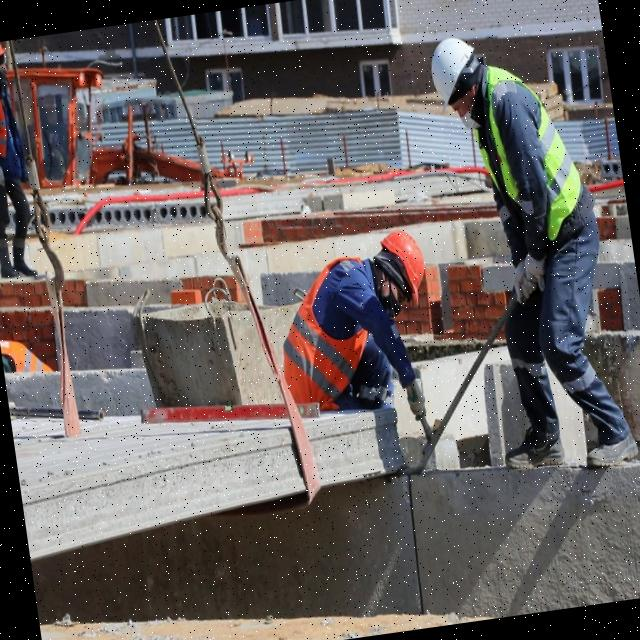Helmet: (427, 37, 485, 117), (379, 229, 431, 311), (1, 42, 8, 66)
Jacket: (476, 69, 578, 249), (278, 262, 405, 401), (1, 73, 25, 174)
